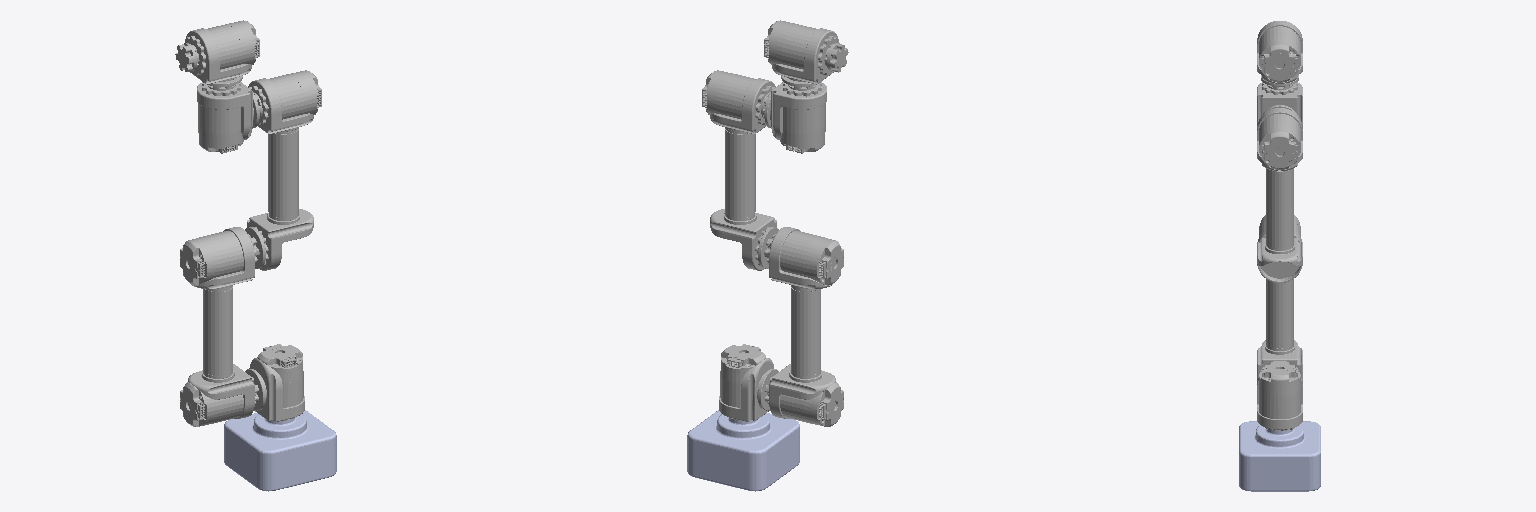
The robot description file, URDF, robot "Gluon_6L3_v4":
<?xml version="1.0" encoding="utf-8"?>
<!-- This URDF was automatically created by SolidWorks to URDF Exporter! Originally created by [author] ([email redacted]) 
     Commit Version: 1.6.0-4-g7f85cfe  Build Version: 1.6.7995.38578
     For more information, please see http://wiki.ros.org/sw_urdf_exporter -->
<robot
  name="Gluon_6L3_v4">
  <link
    name="link0">
    <inertial>
      <origin
        xyz="2.78935914017553E-18 6.00214303603146E-11 0.0271404483614374"
        rpy="0 0 0" />
      <mass
        value="0.524001417146026" />
      <inertia
        ixx="0.000535467082580035"
        ixy="-5.80561098039586E-10"
        ixz="-4.91827773164595E-20"
        iyy="0.000535467122847014"
        iyz="1.9183735613492E-11"
        izz="0.000799852045598815" />
    </inertial>
    <visual>
      <origin
        xyz="0 0 0"
        rpy="0 0 0" />
      <geometry>
        <mesh
          filename="package://Gluon_6L3_v4/meshes/link0.STL" />
      </geometry>
      <material
        name="">
        <color
          rgba="0.792156862745098 0.819607843137255 0.933333333333333 1" />
      </material>
    </visual>
    <collision>
      <origin
        xyz="0 0 0"
        rpy="0 0 0" />
      <geometry>
        <mesh
          filename="package://Gluon_6L3_v4/meshes/link0.STL" />
      </geometry>
    </collision>
  </link>
  <link
    name="link1">
    <inertial>
      <origin
        xyz="0.010414354505053 7.21484246034699E-06 0.0127550304440726"
        rpy="0 0 0" />
      <mass
        value="0.073330303750356" />
      <inertia
        ixx="3.05575215370664E-05"
        ixy="4.98505771348352E-10"
        ixz="7.9496492545355E-06"
        iyy="2.96845484254722E-05"
        iyz="-1.02765893583384E-09"
        izz="2.73961191670326E-05" />
    </inertial>
    <visual>
      <origin
        xyz="0 0 0"
        rpy="0 0 0" />
      <geometry>
        <mesh
          filename="package://Gluon_6L3_v4/meshes/link1.STL" />
      </geometry>
      <material
        name="">
        <color
          rgba="0.752941176470588 0.752941176470588 0.752941176470588 1" />
      </material>
    </visual>
    <collision>
      <origin
        xyz="0 0 0"
        rpy="0 0 0" />
      <geometry>
        <mesh
          filename="package://Gluon_6L3_v4/meshes/link1.STL" />
      </geometry>
    </collision>
  </link>
  <joint
    name="Joint1"
    type="revolute">
    <origin
      xyz="0 0 0.10503"
      rpy="3.1416 0 3.1416" />
    <parent
      link="link0" />
    <child
      link="link1" />
    <axis
      xyz="0 0 -1" />
    <limit
      lower="-3.14"
      upper="3.14"
      effort="150"
      velocity="3.15" />
  </joint>
  <link
    name="link2">
    <inertial>
      <origin
        xyz="0.0872101271182029 5.99202625574599E-10 0.00997880517526155"
        rpy="0 0 0" />
      <mass
        value="0.252327054669583" />
      <inertia
        ixx="7.33886640772952E-05"
        ixy="9.95956129391653E-10"
        ixz="-2.52105289290266E-12"
        iyy="0.000150270494249393"
        iyz="6.27133356438553E-12"
        izz="0.000146347035031901" />
    </inertial>
    <visual>
      <origin
        xyz="0 0 0"
        rpy="0 0 0" />
      <geometry>
        <mesh
          filename="package://Gluon_6L3_v4/meshes/link2.STL" />
      </geometry>
      <material
        name="">
        <color
          rgba="0.752941176470588 0.752941176470588 0.752941176470588 1" />
      </material>
    </visual>
    <collision>
      <origin
        xyz="0 0 0"
        rpy="0 0 0" />
      <geometry>
        <mesh
          filename="package://Gluon_6L3_v4/meshes/link2.STL" />
      </geometry>
    </collision>
  </link>
  <joint
    name="Joint2"
    type="revolute">
    <origin
      xyz="0.080089 0 0"
      rpy="3.1416 1.5708 0" />
    <parent
      link="link1" />
    <child
      link="link2" />
    <axis
      xyz="0 0 -1" />
    <limit
      lower="-3.14"
      upper="3.14"
      effort="150"
      velocity="3.15" />
  </joint>
  <link
    name="link3">
    <inertial>
      <origin
        xyz="0.0955940989191396 -2.37353415503242E-06 0.0096769348935872"
        rpy="0 0 0" />
      <mass
        value="0.230206262760067" />
      <inertia
        ixx="7.1682151069334E-05"
        ixy="1.00709986296239E-09"
        ixz="3.04659433507066E-10"
        iyy="0.00014857808997549"
        iyz="3.25881137642561E-10"
        izz="0.000143637599771189" />
    </inertial>
    <visual>
      <origin
        xyz="0 0 0"
        rpy="0 0 0" />
      <geometry>
        <mesh
          filename="package://Gluon_6L3_v4/meshes/link3.STL" />
      </geometry>
      <material
        name="">
        <color
          rgba="0.752941176470588 0.752941176470588 0.752941176470588 1" />
      </material>
    </visual>
    <collision>
      <origin
        xyz="0 0 0"
        rpy="0 0 0" />
      <geometry>
        <mesh
          filename="package://Gluon_6L3_v4/meshes/link3.STL" />
      </geometry>
    </collision>
  </link>
  <joint
    name="Joint3"
    type="revolute">
    <origin
      xyz="0.17442 0 0.084516"
      rpy="3.1416 0 0" />
    <parent
      link="link2" />
    <child
      link="link3" />
    <axis
      xyz="0 0 1" />
    <limit
      lower="-3.14"
      upper="3.14"
      effort="150"
      velocity="3.15" />
  </joint>
  <link
    name="link4">
    <inertial>
      <origin
        xyz="0.0153497222592215 -6.452419437921E-06 0.00931116433351614"
        rpy="0 0 0" />
      <mass
        value="0.0820185031790025" />
      <inertia
        ixx="2.83154357090867E-05"
        ixy="1.02138760212871E-09"
        ixz="7.94964673348254E-06"
        iyy="3.02771641384983E-05"
        iyz="-4.97450356721805E-10"
        izz="3.11501431057351E-05" />
    </inertial>
    <visual>
      <origin
        xyz="0 0 0"
        rpy="0 0 0" />
      <geometry>
        <mesh
          filename="package://Gluon_6L3_v4/meshes/link4.STL" />
      </geometry>
      <material
        name="">
        <color
          rgba="0.752941176470588 0.752941176470588 0.752941176470588 1" />
      </material>
    </visual>
    <collision>
      <origin
        xyz="0 0 0"
        rpy="0 0 0" />
      <geometry>
        <mesh
          filename="package://Gluon_6L3_v4/meshes/link4.STL" />
      </geometry>
    </collision>
  </link>
  <joint
    name="Joint4"
    type="revolute">
    <origin
      xyz="0.17442 0 0.080089"
      rpy="-3.1416 0 0" />
    <parent
      link="link3" />
    <child
      link="link4" />
    <axis
      xyz="0 0 1" />
    <limit
      lower="-3.14"
      upper="3.14"
      effort="28"
      velocity="3.2" />
  </joint>
  <link
    name="link5">
    <inertial>
      <origin
        xyz="0.0159853013938838 -6.45057618139906E-06 0.00931116479457528"
        rpy="0 0 0" />
      <mass
        value="0.0820185010219473" />
      <inertia
        ixx="2.83154341302951E-05"
        ixy="1.02765893572239E-09"
        ixz="7.9496492545355E-06"
        iyy="3.02771649183757E-05"
        iyz="-4.98505771366619E-10"
        izz="3.11501380299691E-05" />
    </inertial>
    <visual>
      <origin
        xyz="0 0 0"
        rpy="0 0 0" />
      <geometry>
        <mesh
          filename="package://Gluon_6L3_v4/meshes/link5.STL" />
      </geometry>
      <material
        name="">
        <color
          rgba="0.752941176470588 0.752941176470588 0.752941176470588 1" />
      </material>
    </visual>
    <collision>
      <origin
        xyz="0 0 0"
        rpy="0 0 0" />
      <geometry>
        <mesh
          filename="package://Gluon_6L3_v4/meshes/link5.STL" />
      </geometry>
    </collision>
  </link>
  <joint
    name="Joint5"
    type="revolute">
    <origin
      xyz="0.080089 0 0"
      rpy="3.1416 1.5708 0" />
    <parent
      link="link4" />
    <child
      link="link5" />
    <axis
      xyz="0 0 1" />
    <limit
      lower="-3.14"
      upper="3.14"
      effort="28"
      velocity="3.2" />
  </joint>
</robot>

--- Facts derived from the render (not from the file) ---
The picture shows the robot from 3 angles, left to right: view 1: azimuth 30°, elevation 25°; view 2: azimuth 150°, elevation 25°; view 3: azimuth 270°, elevation 25°; orthographic projection.
Model Gluon_6L3_v4 with 6 links and 5 joints (5 revolute), rooted at link0, posed every joint at zero.
Links seen in each view (by area): view 1: link2, link3, link0, link5, link4, link1; view 2: link2, link3, link0, link5, link4, link1; view 3: link3, link0, link2, link1, link5, link4.
Boxes of the visible links, x1,y1,x2,y2 form: link2: (180, 227, 259, 426); link3: (245, 70, 321, 270); link0: (224, 410, 336, 491); link5: (175, 20, 259, 86); link4: (197, 82, 259, 153); link1: (245, 344, 304, 421); link2: (764, 227, 843, 426); link3: (702, 70, 778, 270); link0: (687, 410, 799, 491); link5: (764, 20, 848, 86); link4: (764, 82, 826, 153); link1: (719, 344, 778, 421); link3: (1257, 108, 1302, 282); link0: (1239, 421, 1320, 491); link2: (1257, 215, 1302, 380); link1: (1257, 361, 1302, 430); link5: (1257, 21, 1302, 86); link4: (1257, 82, 1302, 124).
Bounding box of the posed robot: 0.176 × 0.1 × 0.5618 m (x, y, z).
Meshes: 6 distinct files referenced, 6 mesh visuals loaded (6 binary STL).